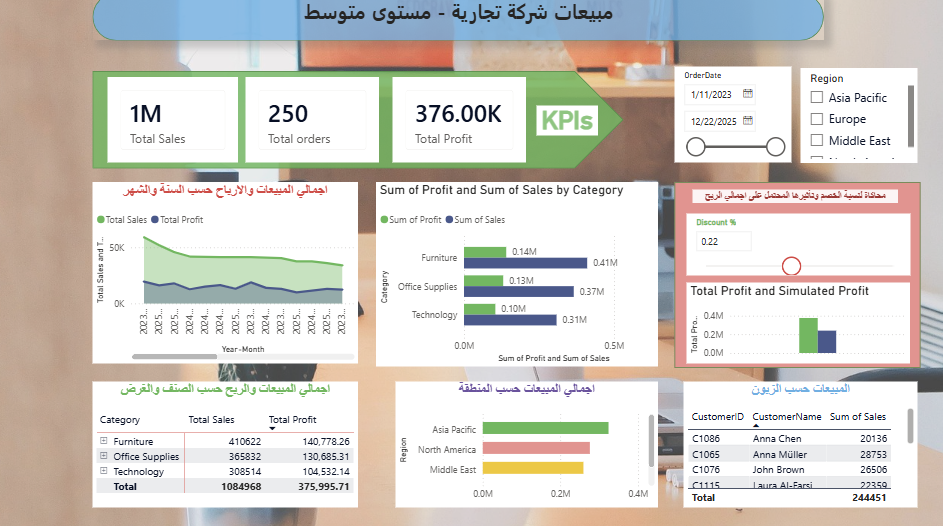

What the dashboard file says about the page in this screenshot:
{"tool":"powerbi","page":{"name":"Total Sales and profits","canvas":[1280,720],"ordinal":0},"visuals":[{"type":"shape","box":[138,104,708,130],"z":0},{"type":"shape","box":[913.5,252,328,248],"z":0,"group":"g2"},{"type":"shape","box":[138.4,0,975,63.6],"z":1000},{"type":"cardVisual","fields":{"Data":["Orders.Total Sales"]},"box":[158,112,174,114],"z":2000},{"type":"pivotTable","title":"اجمالي المبيعات والربح حسب الصنف والغرض","fields":{"Rows":["Products.Category","Products.SubCategory"],"Values":["Orders.Total Sales","Orders.Total Profit"]},"box":[138,518,354,168],"z":2000},{"type":"cardVisual","fields":{"Data":["Orders.Total Profit"]},"box":[538,112,178,114],"z":3000},{"type":"lineChart","title":"اجمالي المبيعات والارباح حسب السنة والشهر","fields":{"Category":["Date.Year-Month"],"Y":["Orders.Total Sales","Orders.Total Profit"]},"box":[138,252,354,242],"z":3000},{"type":"clusteredColumnChart","fields":{"Y":["Orders.Total Profit","Discount %.Simulated Profit"]},"box":[929.5,386,298,108],"z":3000,"group":"g2"},{"type":"cardVisual","fields":{"Data":["Orders.Total orders"]},"box":[342,112,178,114],"z":4000},{"type":"slicer","fields":{"Values":["Discount %.Discount %"]},"box":[929.5,294,298,82],"z":4000,"group":"g2"},{"type":"barChart","title":"اجمالي المبيعات حسب المنطقة","fields":{"Y":["Sum(Orders.Sales)"],"Category":["Customers.Region"]},"box":[542,518,350,168],"z":4000},{"type":"slicer","fields":{"Values":["Customers.Region"]},"box":[1082,100,156,126],"z":5000},{"type":"textbox","title":"محاكاة لنسبة الخصم وتأثيرها المحتمل على اجمالي الربح","box":[937.5,262,274,18],"z":6000,"group":"g2"},{"type":"textbox","title":"KPIs","box":[730,150,82,40],"z":7000,"group":"g1"},{"type":"tableEx","title":"المبيعات حسب الزبون","fields":{"Values":["Customers.CustomerID","Customers.CustomerName","Sum(Orders.Sales)"]},"box":[926,518,312,168],"z":7000},{"type":"textbox","box":[249.7,0,753.9,63.6],"z":8000},{"type":"slicer","fields":{"Values":["Orders.OrderDate"]},"box":[914,98,156,128],"z":9000},{"type":"group","id":"g1","title":"Group 2","box":[730,150,82,40],"z":9001},{"type":"clusteredBarChart","fields":{"Category":["Products.Category"],"Y":["Sum(Orders.Profit)","Sum(Orders.Sales)"]},"box":[516,252,376,246],"z":9002},{"type":"group","id":"g2","title":"Group 1","box":[913.5,252,328,248],"z":9003}]}

Visuals, with their boxes in screenshot pixels (x1, y1, x2, y2), scaled from the page's 1280x720 canvas onto the 943x526 screenshot:
shape: 102, 76, 623, 171
shape: 673, 184, 915, 365
shape: 102, 0, 820, 46
cardVisual - Orders.Total Sales: 116, 82, 245, 165
"اجمالي المبيعات والربح حسب الصنف والغرض" pivotTable: 102, 378, 362, 501
cardVisual - Orders.Total Profit: 396, 82, 527, 165
"اجمالي المبيعات والارباح حسب السنة والشهر" lineChart: 102, 184, 362, 361
clusteredColumnChart - Orders.Total Profit x Discount %.Simulated Profit: 685, 282, 904, 361
cardVisual - Orders.Total orders: 252, 82, 383, 165
slicer - Discount %.Discount %: 685, 215, 904, 275
"اجمالي المبيعات حسب المنطقة" barChart: 399, 378, 657, 501
slicer - Customers.Region: 797, 73, 912, 165
"محاكاة لنسبة الخصم وتأثيرها المحتمل على اجمالي الربح" textbox: 691, 191, 893, 205
"KPIs" textbox: 538, 110, 598, 139
"المبيعات حسب الزبون" tableEx: 682, 378, 912, 501
textbox: 184, 0, 739, 46
slicer - Orders.OrderDate: 673, 72, 788, 165
"Group 2" group: 538, 110, 598, 139
clusteredBarChart - Products.Category x Sum(Orders.Profit): 380, 184, 657, 364
"Group 1" group: 673, 184, 915, 365
